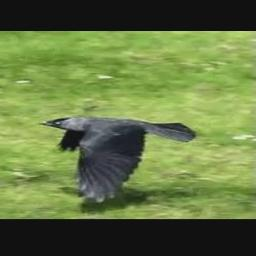Crow: (39, 115, 197, 204)
